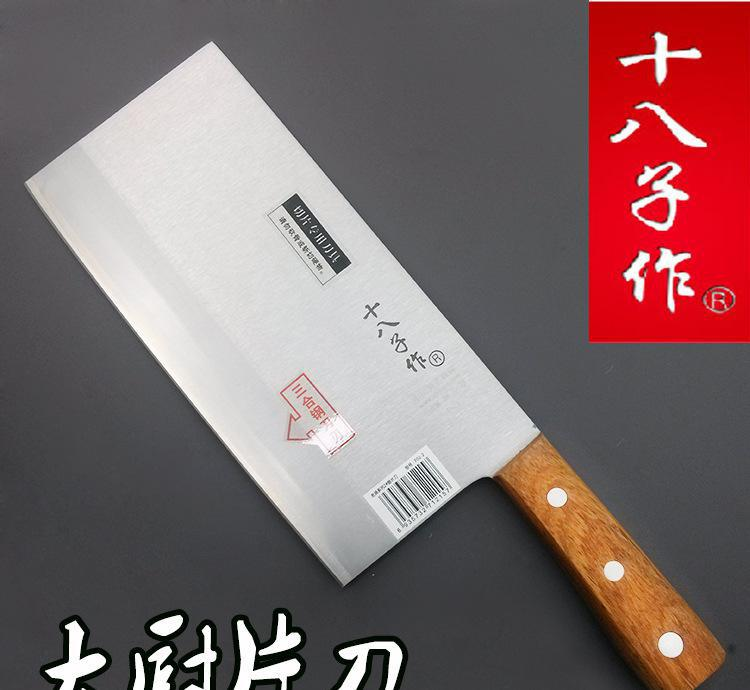knief: (28, 68, 713, 674)
